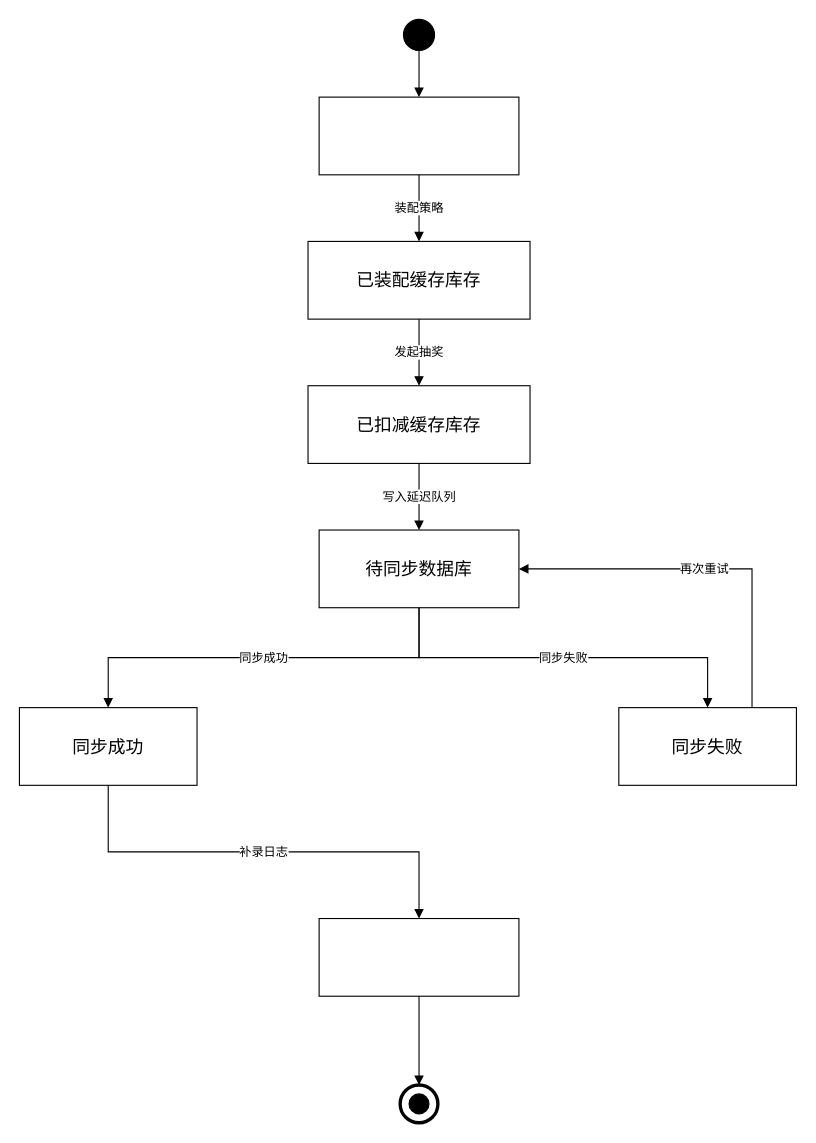
Some shapes in this 816 by 1143 pixel diagram are drawn without their labels. Here are the shapes that lost their labels. From the top down, the box of each, then its label:
(318, 96, 519, 175): 未装配策略
(318, 917, 519, 996): 补录成功
